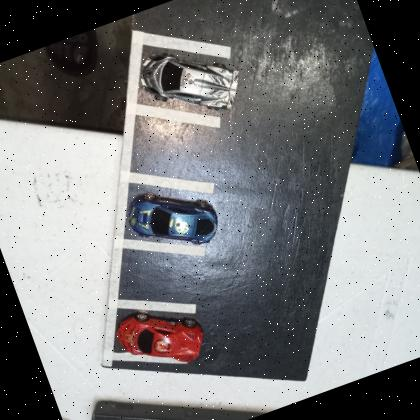Car: (133, 30, 251, 136), (121, 172, 228, 268), (111, 294, 213, 386)
